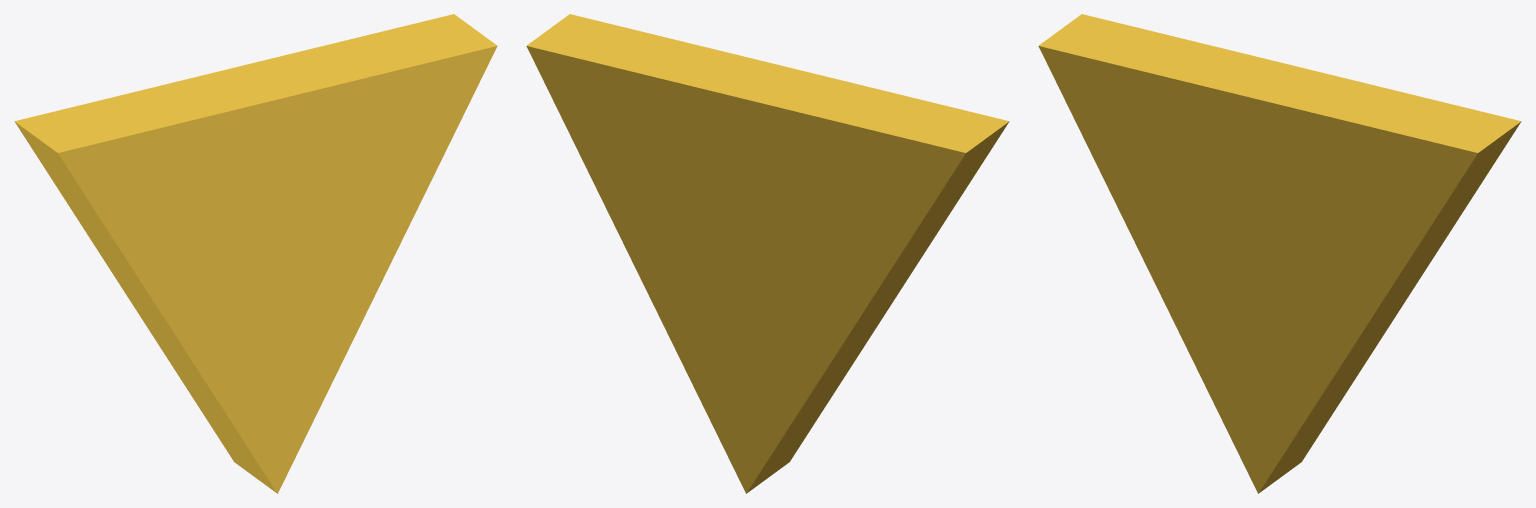
The model's file is local-player-marker.glb.
3 renders of one model, left to right at view 1: azimuth 30°, elevation 25°; view 2: azimuth 150°, elevation 25°; view 3: azimuth 330°, elevation 25°, orthographic.
Parts seen in each view (by area): view 1: local-player-marker; view 2: local-player-marker; view 3: local-player-marker.
Boxes of the visible parts, <box> form: local-player-marker: <box>14,14,497,493</box>; local-player-marker: <box>526,14,1009,493</box>; local-player-marker: <box>1038,14,1521,493</box>.
Size of the model in its own units: 0.7 by 0.6 by 0.12.
